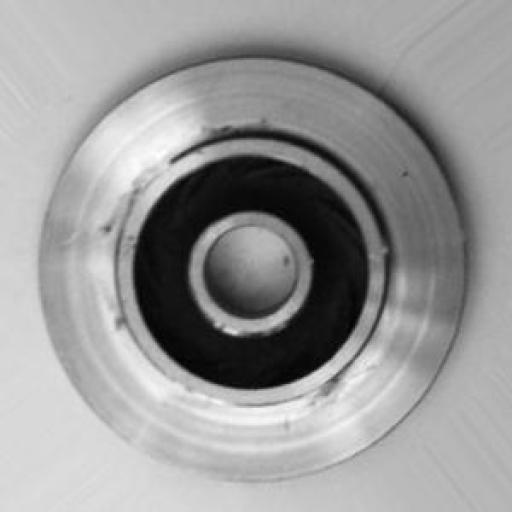defect: (64, 133, 364, 431)
